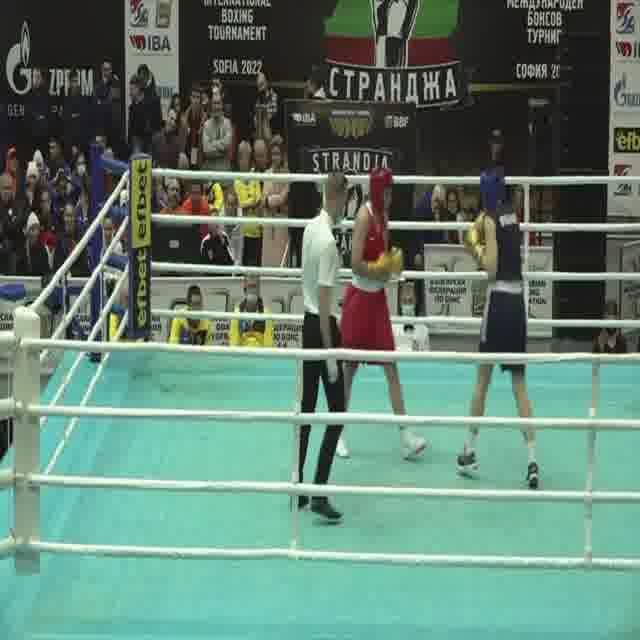blue-player: (453, 160, 543, 490)
red-player: (326, 162, 429, 462)
referee: (289, 171, 351, 526)
